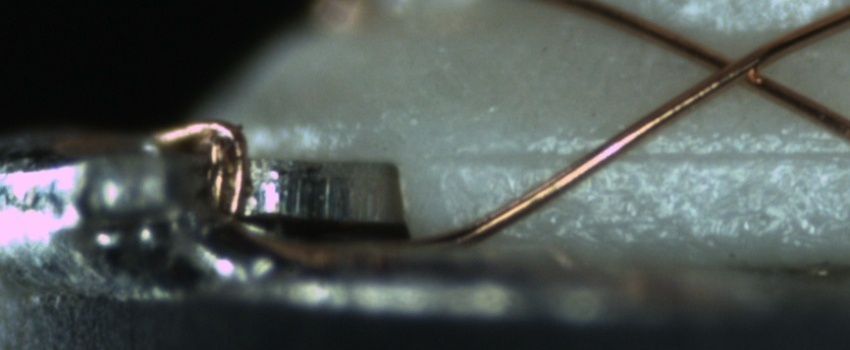CL: (691, 37, 784, 94)
DL: (439, 129, 849, 184)
TE: (145, 113, 251, 230)
